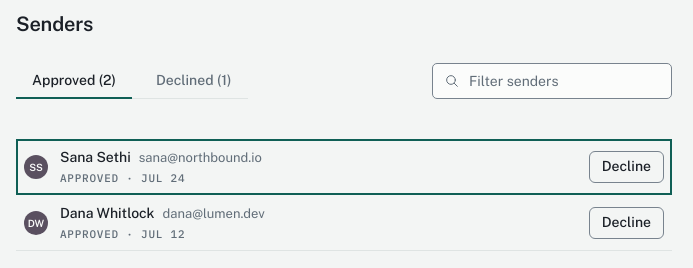
Test: SendersSettings › filters the visible rows on name and address without changing the tab counts
This screenshot has width=693, height=268.
Expected: the tab "Approved (2)" is shown, [16,62,132,98]
Expected: the tab "Declined (1)" is shown, [140,62,248,98]
Step 1. Type "Dana" into the search field labelled "Filter senders" → (552, 80), box [432,62,672,98]
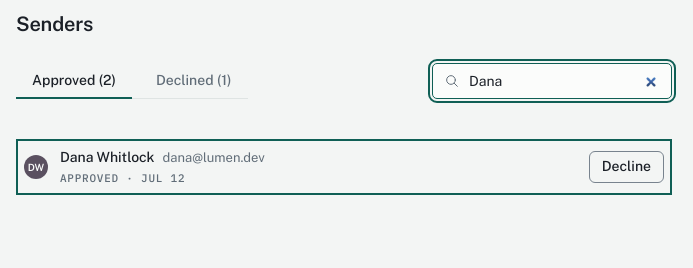
Expected: the text "Dana Whitlock" is shown, [60,147,155,168]
Now the text "Sana Sethi" is gone
